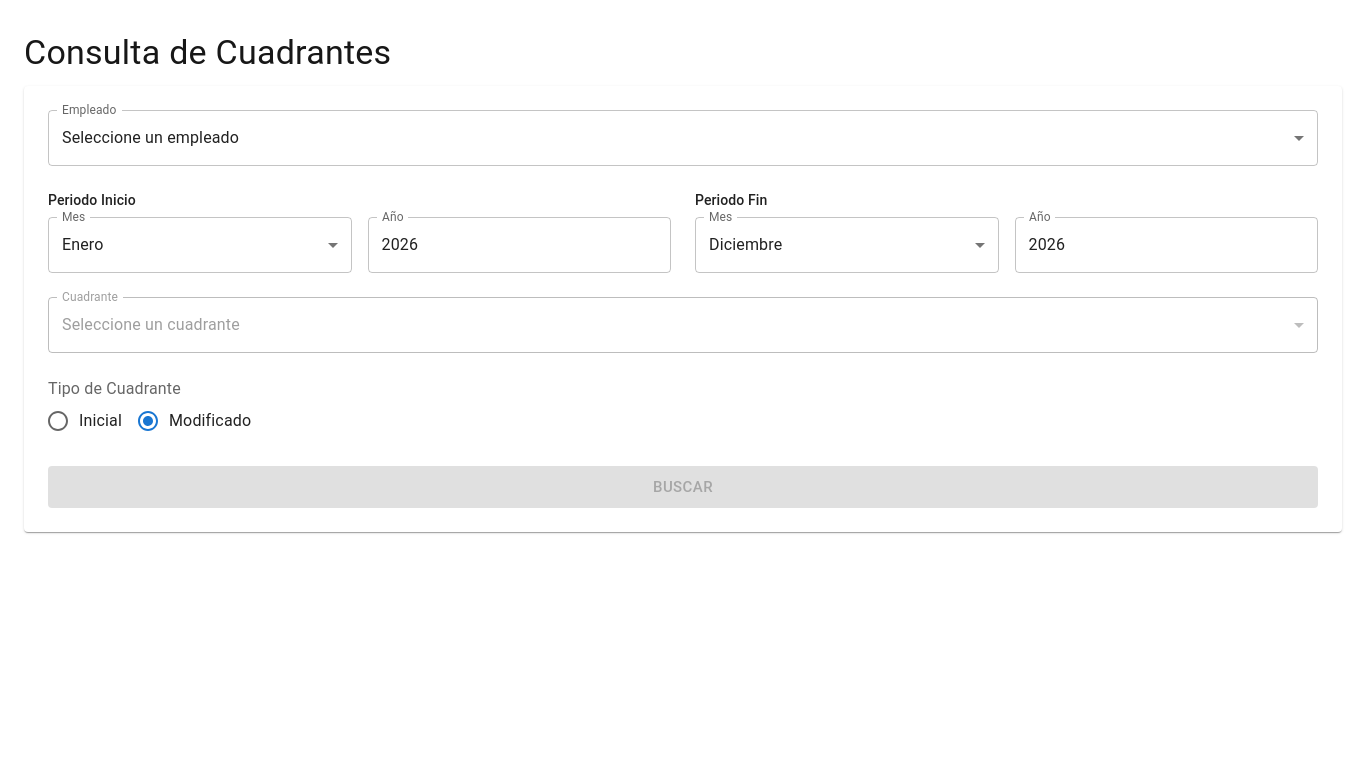
it: ConsultaCuadrantesPage › Cargar Cuadrantes › debería mostrar error si no hay cuadrantes disponibles
Click the dropdown "Seleccione un empleado" at (151, 138), box [62,128,239,147]
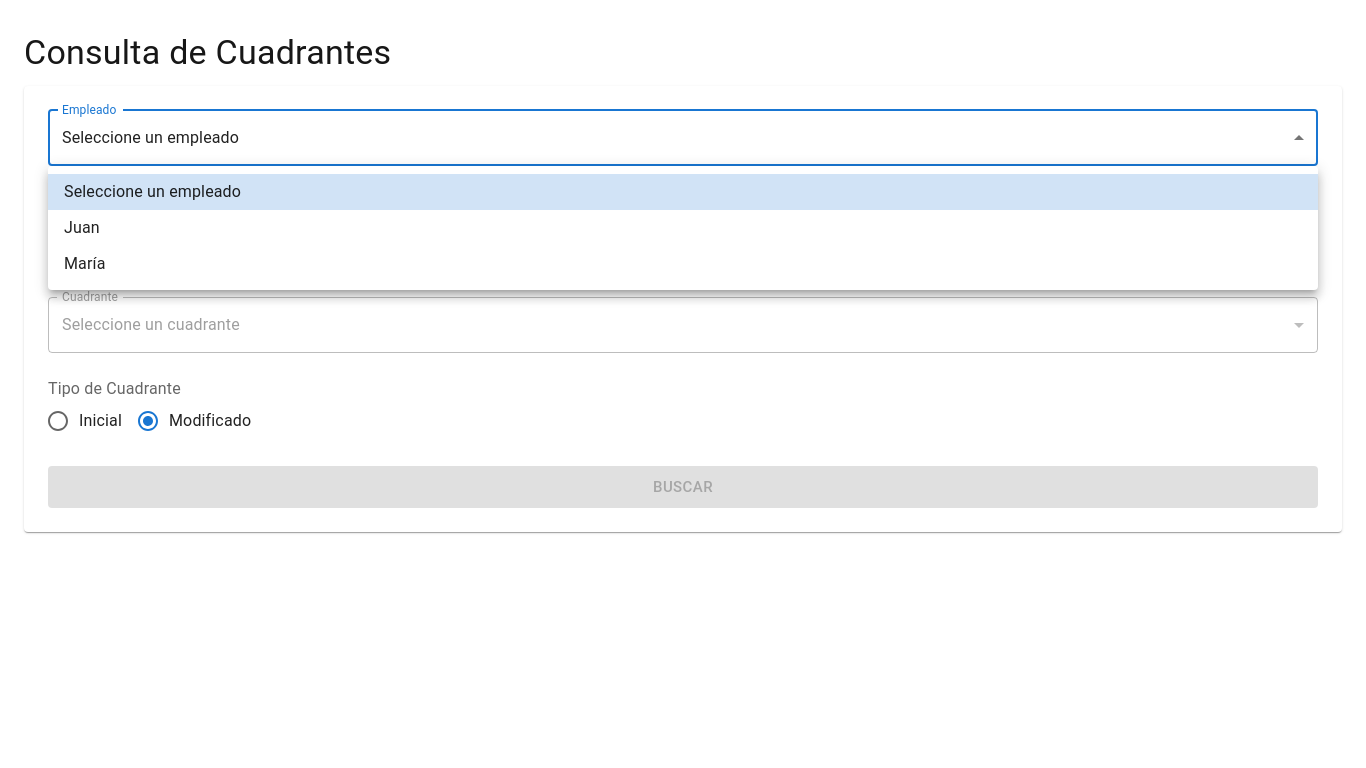
Click the option "Juan" at (82, 228), box [64,218,100,237]
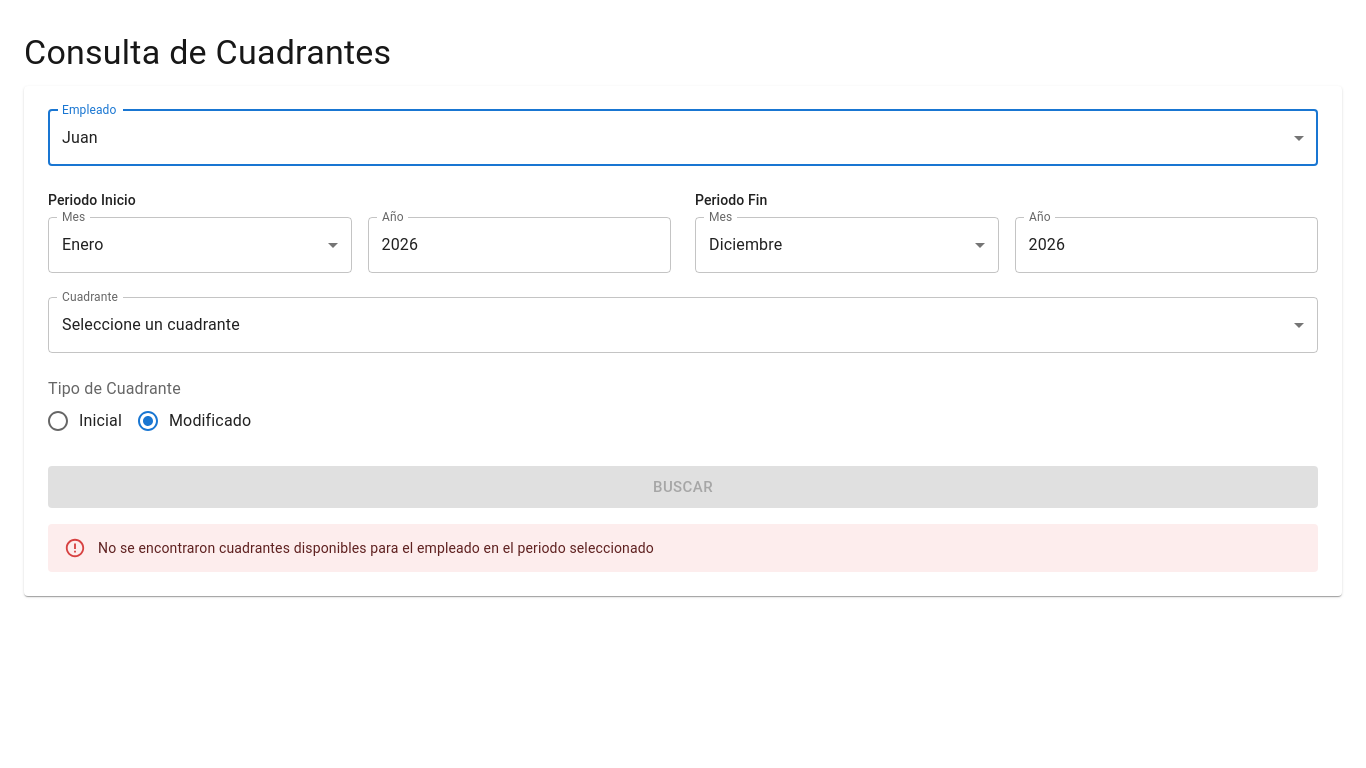
Result: the text "No se encontraron cuadrantes disponibles" is shown at [98,540,654,556]
